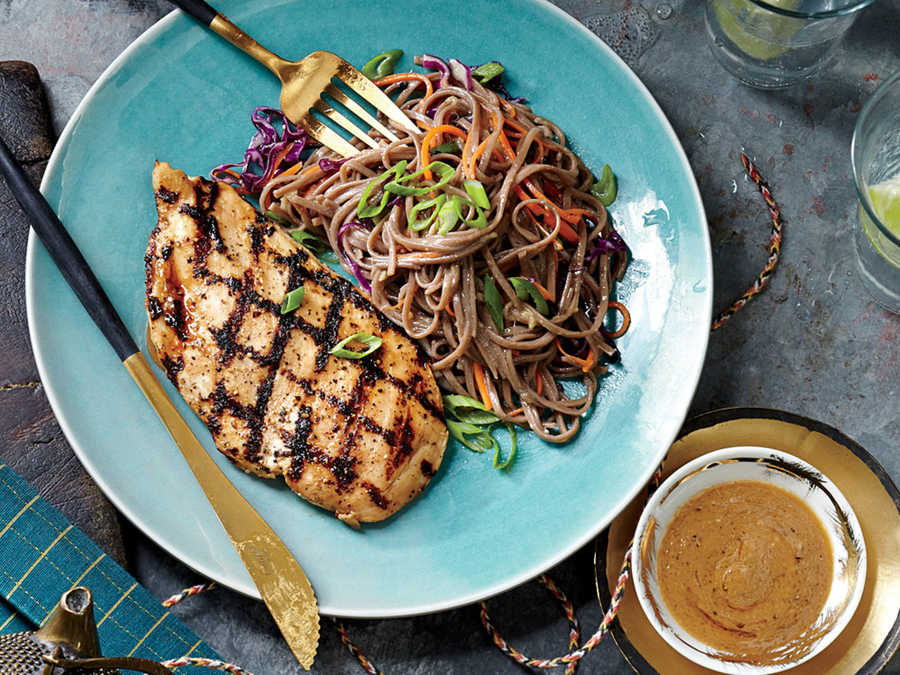Soba: (295, 112, 624, 435)
